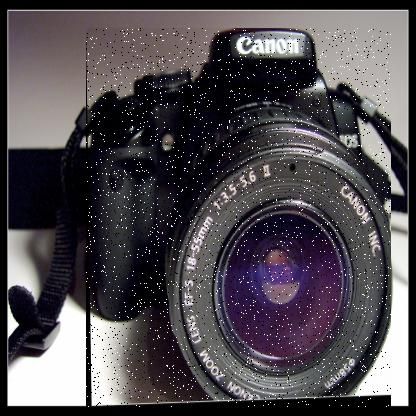Camera: (87, 29, 393, 409)
